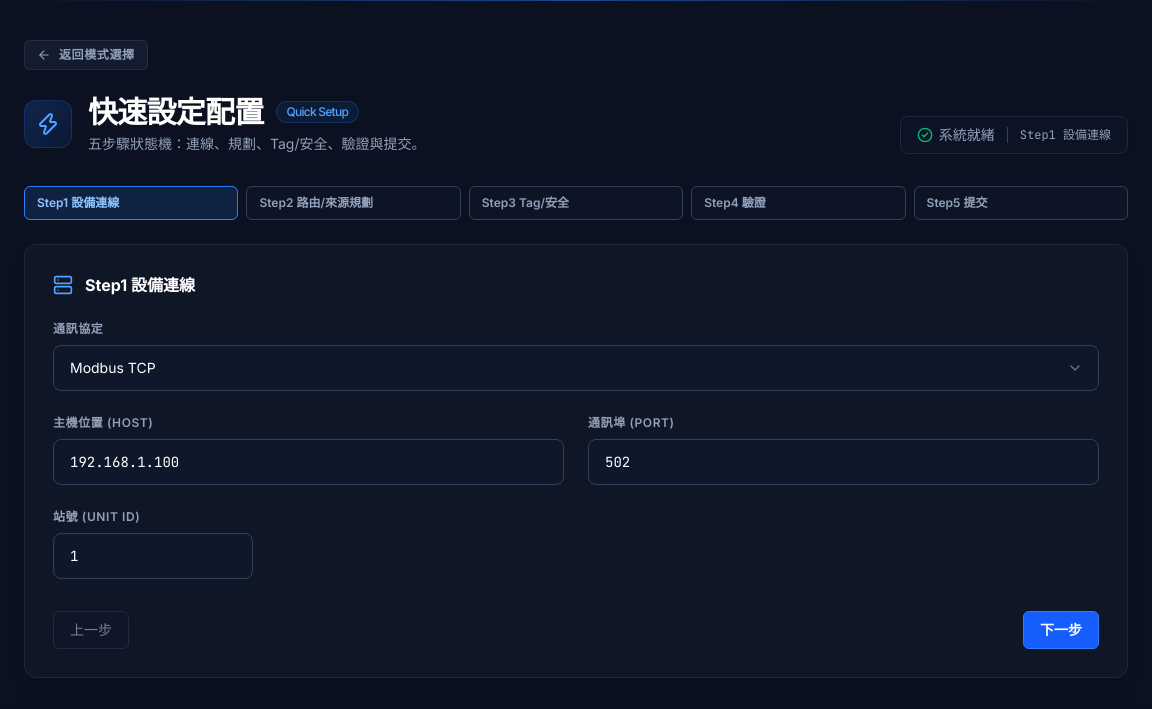
Test: GatewayQuickSetupPage › retains entered state when switching between steps
Step 1. Type "10.0.0.1" into the field with test id "host-input" → (308, 462), box top-left (53, 439), bottom-right (564, 485)
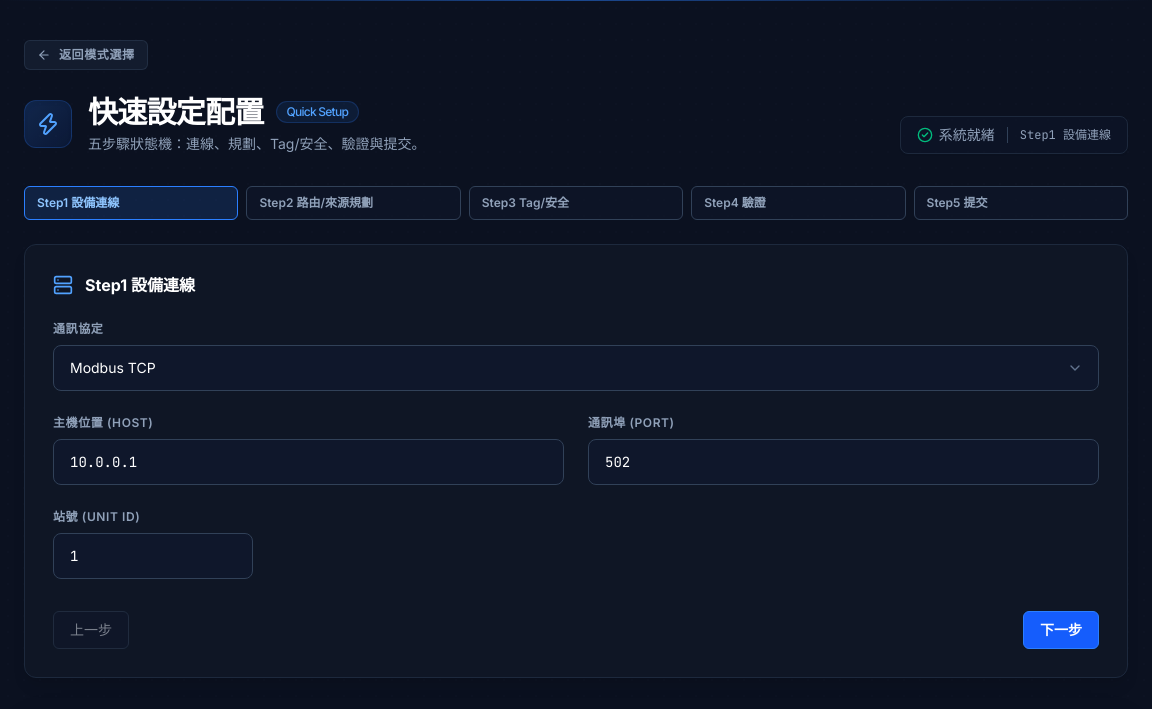
Step 2. Click the button with test id "step-next-btn" → (1061, 630), box top-left (1023, 611), bottom-right (1099, 649)
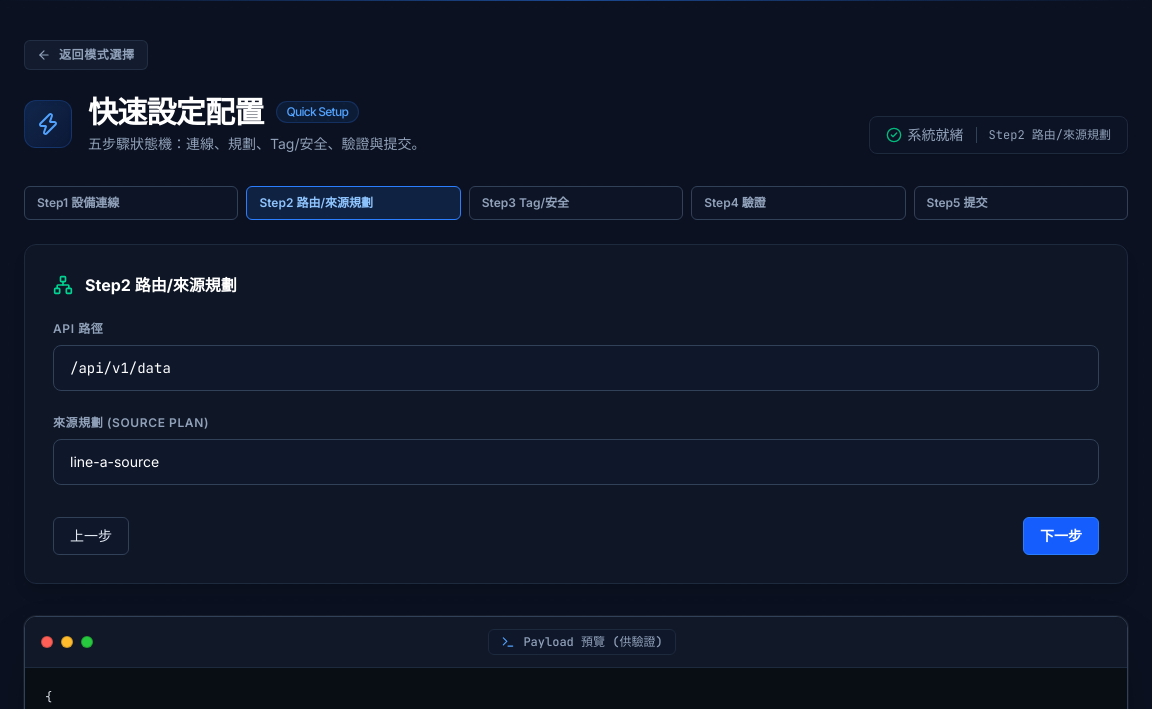
Step 3. Click the button with test id "step-back-btn" → (91, 536), box top-left (53, 517), bottom-right (129, 555)
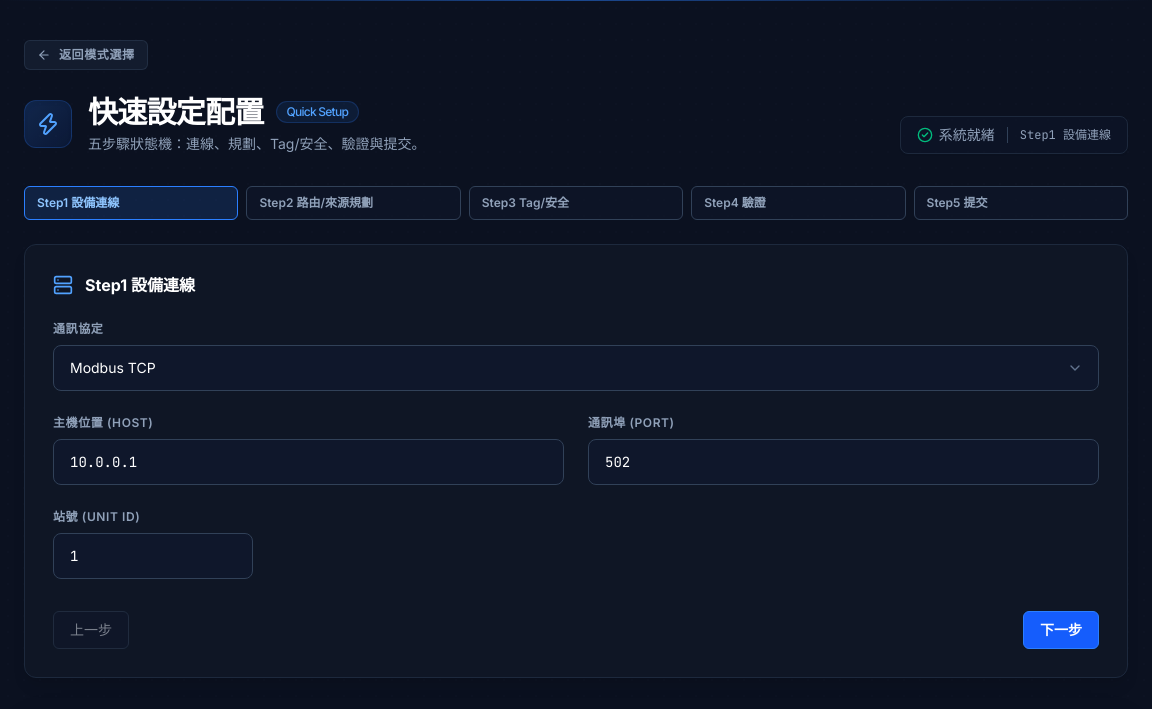
Now the field with test id "host-input" holds "10.0.0.1", box top-left (53, 439), bottom-right (564, 485)
